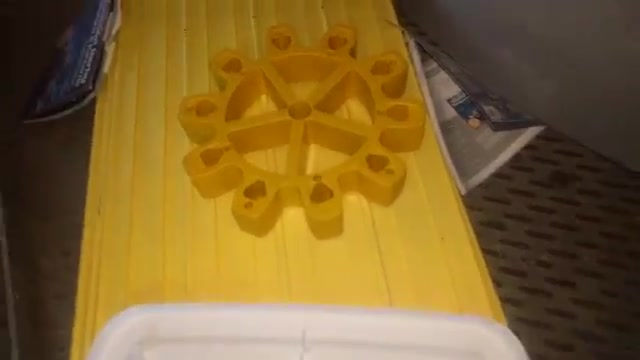gear: (163, 2, 437, 249)
